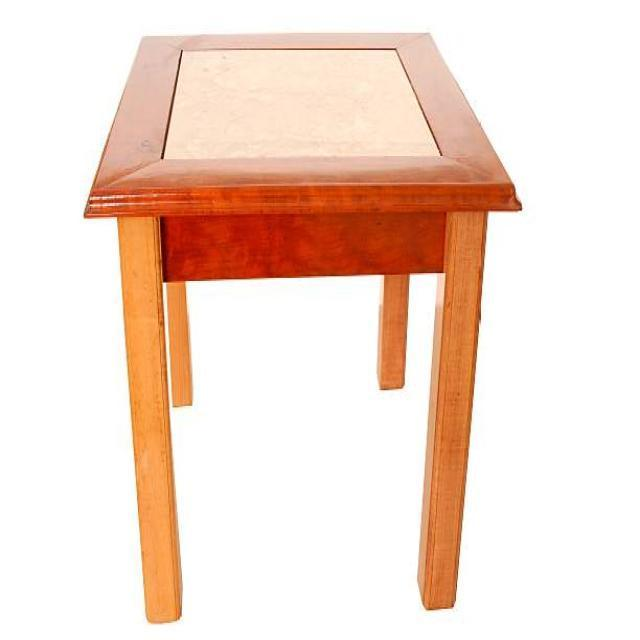table: (82, 28, 522, 623)
